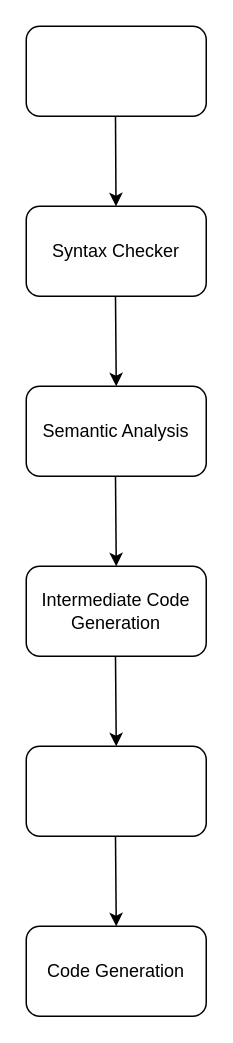
The diagram is 233 pixels wide and 1043 high, and some of its shapes have lost their labels. The centre of each missing label's shape, as x and y in pixels:
Code Optimization: [115,790]
Lexer: [115,70]
